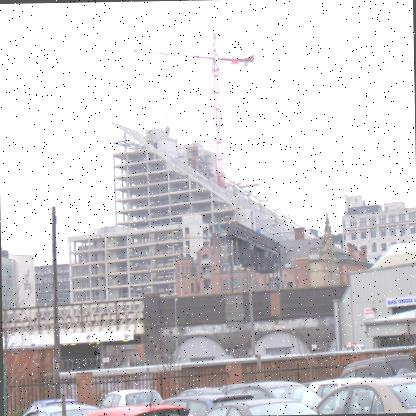Car: (15, 350, 415, 415)
